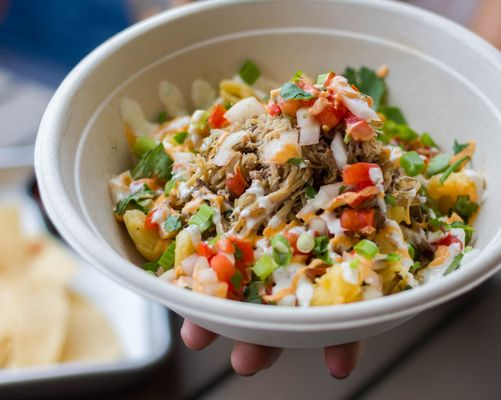sushi: (37, 1, 501, 384), (0, 176, 173, 394)
